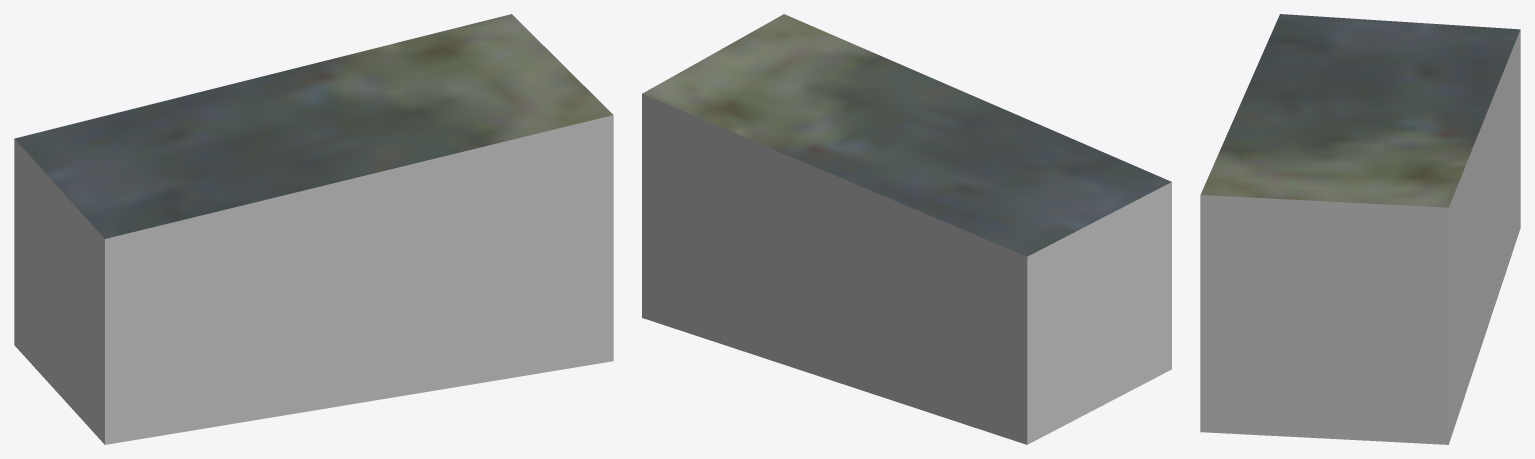
File: DEBW_0010007Txd3.gltf
3 renders of one model, left to right at view 1: azimuth 30°, elevation 25°; view 2: azimuth 150°, elevation 25°; view 3: azimuth 270°, elevation 25°, orthographic. The views are drawn at different scales.
Visible parts, largest first — view 1: Z_UP; view 2: Z_UP; view 3: Z_UP.
Boxes of the visible parts, x1,y1,x2,y2 form: Z_UP: (14,14,613,444); Z_UP: (642,14,1171,444); Z_UP: (1200,14,1520,444).
Bounding box in the file's own units: 6.36 × 3.03 × 3.7.
Materials: 2 (1 with a texture image).
